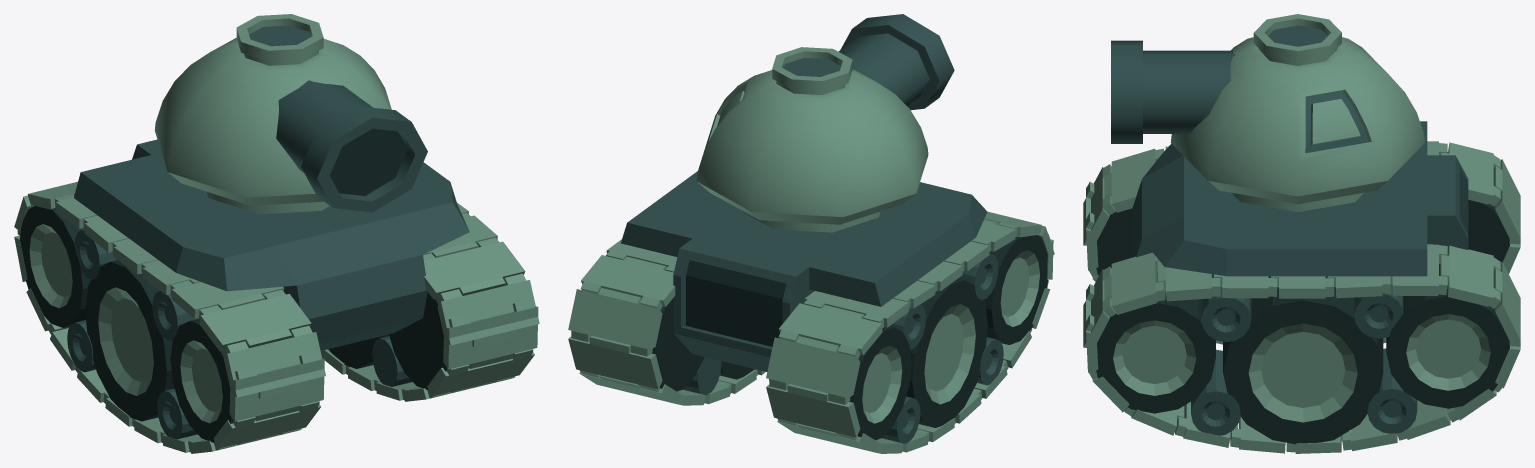
The model's file is tanqueMod3.obj.
3 views of the same model, side by side, from view 1: azimuth 30°, elevation 25°; view 2: azimuth 150°, elevation 25°; view 3: azimuth 270°, elevation 25° (orthographic). The views are drawn at different scales.
Parts seen in each view (by area): view 1: tank_track1.002, Cube, Sphere, Cylinder.010, Cylinder.014, Cylinder.011, Cylinder.013, Cylinder.012, Cylinder.015, Cylinder.017, Cylinder.016; view 2: tank_track1.002, Cube, Sphere, Cylinder.014, Cylinder.013, Cylinder.010, Cylinder.011, Cylinder.016, Cylinder.015, Cylinder.012, Cylinder.017; view 3: Sphere, tank_track1.002, Cube, Cylinder.014, Cylinder.013, Cylinder.011, Cylinder.010, Cylinder.012, Cylinder.016, Cylinder.015, Cylinder.017.
Boxes of the visible parts, left/top/right/bottom form: tank_track1.002: left=14, top=181, right=539, bottom=453; Cube: left=74, top=139, right=469, bottom=350; Sphere: left=154, top=14, right=391, bottom=214; Cylinder.010: left=276, top=80, right=427, bottom=212; Cylinder.014: left=85, top=260, right=389, bottom=421; Cylinder.011: left=170, top=292, right=446, bottom=442; Cylinder.013: left=19, top=206, right=90, bottom=327; Cylinder.012: left=157, top=336, right=412, bottom=439; Cylinder.015: left=152, top=291, right=198, bottom=340; Cylinder.017: left=74, top=229, right=116, bottom=279; Cylinder.016: left=67, top=320, right=95, bottom=372; tank_track1.002: left=568, top=212, right=1054, bottom=453; Cube: left=621, top=171, right=987, bottom=371; Sphere: left=696, top=47, right=928, bottom=232; Cylinder.014: left=719, top=278, right=987, bottom=427; Cylinder.013: left=651, top=297, right=911, bottom=440; Cylinder.010: left=838, top=14, right=954, bottom=110; Cylinder.011: left=984, top=235, right=1047, bottom=344; Cylinder.016: left=683, top=357, right=920, bottom=443; Cylinder.015: left=958, top=253, right=998, bottom=299; Cylinder.012: left=977, top=337, right=1003, bottom=385; Cylinder.017: left=890, top=304, right=925, bottom=349; Sphere: left=1170, top=14, right=1424, bottom=212; tank_track1.002: left=1083, top=141, right=1520, bottom=453; Cube: left=1132, top=121, right=1468, bottom=276; Cylinder.014: left=1223, top=276, right=1383, bottom=444; Cylinder.013: left=1386, top=152, right=1509, bottom=408; Cylinder.011: left=1096, top=208, right=1215, bottom=413; Cylinder.010: left=1111, top=40, right=1235, bottom=143; Cylinder.012: left=1191, top=349, right=1240, bottom=435; Cylinder.016: left=1367, top=348, right=1417, bottom=433; Cylinder.015: left=1201, top=274, right=1251, bottom=342; Cylinder.017: left=1354, top=284, right=1403, bottom=338.
Size of the model in its own units: 6.21 by 6.99 by 7.93.
